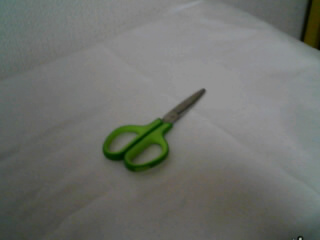003_classes: (94, 84, 208, 169)
